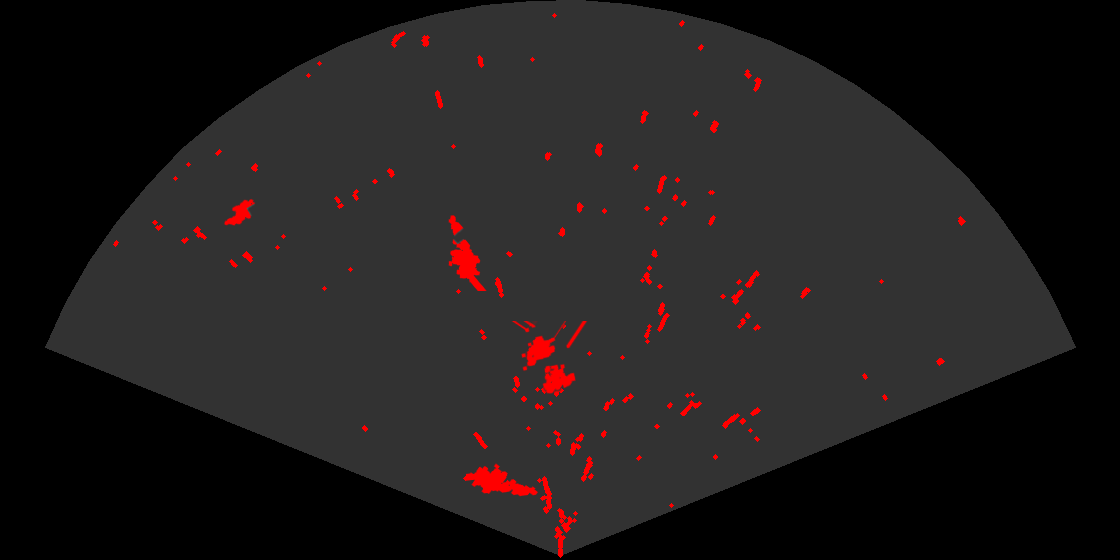AUV: (223, 197, 257, 227)
cage: (510, 321, 589, 395)
frogman: (447, 214, 488, 291), (466, 462, 540, 498)
